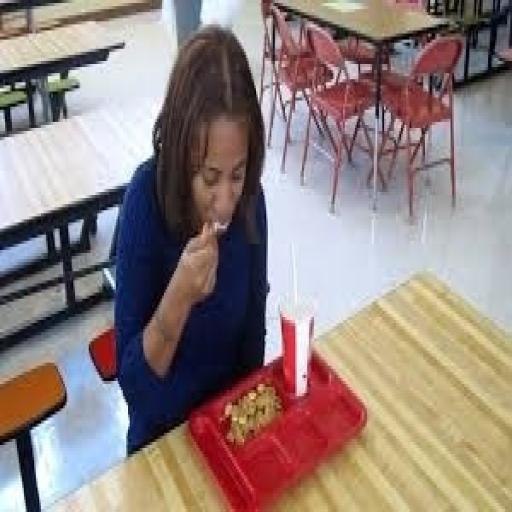eating: (111, 21, 271, 454)
